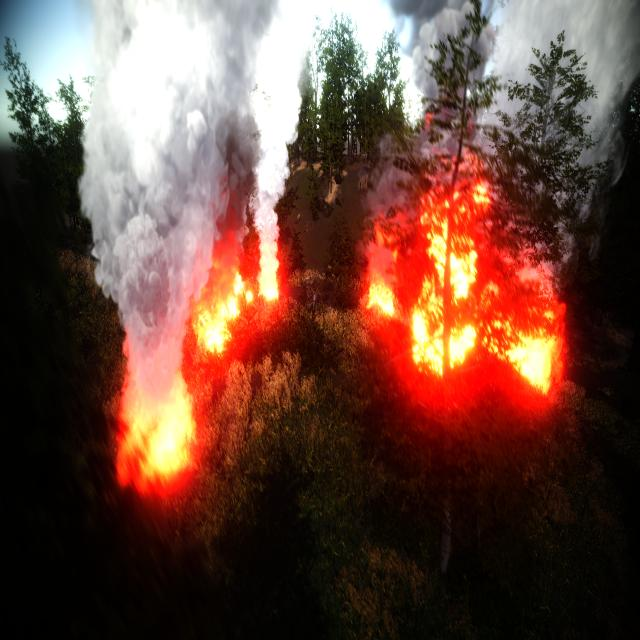Human: (308, 280, 320, 333)
